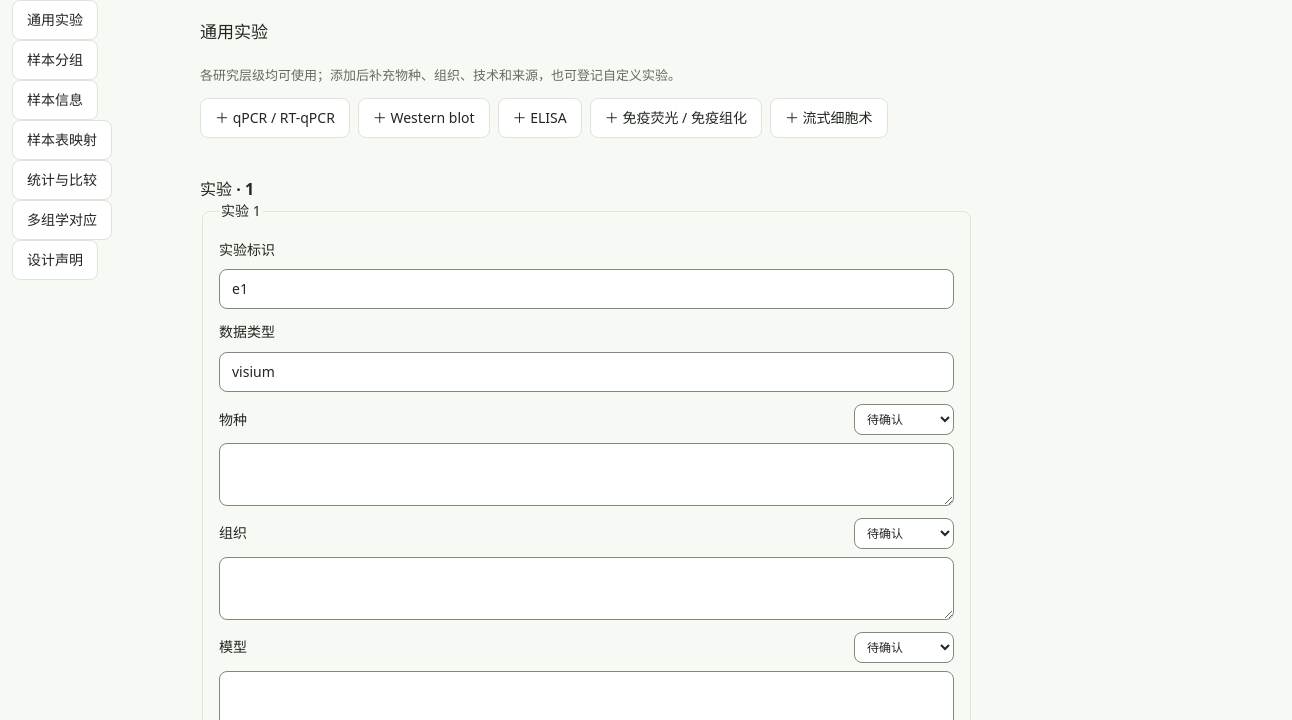
Test case: previews a persisted XLSX sheet before explicitly adding mapped samples
Later steps or results of the test are not shown.
Click the button "样本表映射" at (62, 140), box top-left (12, 120), bottom-right (112, 160)
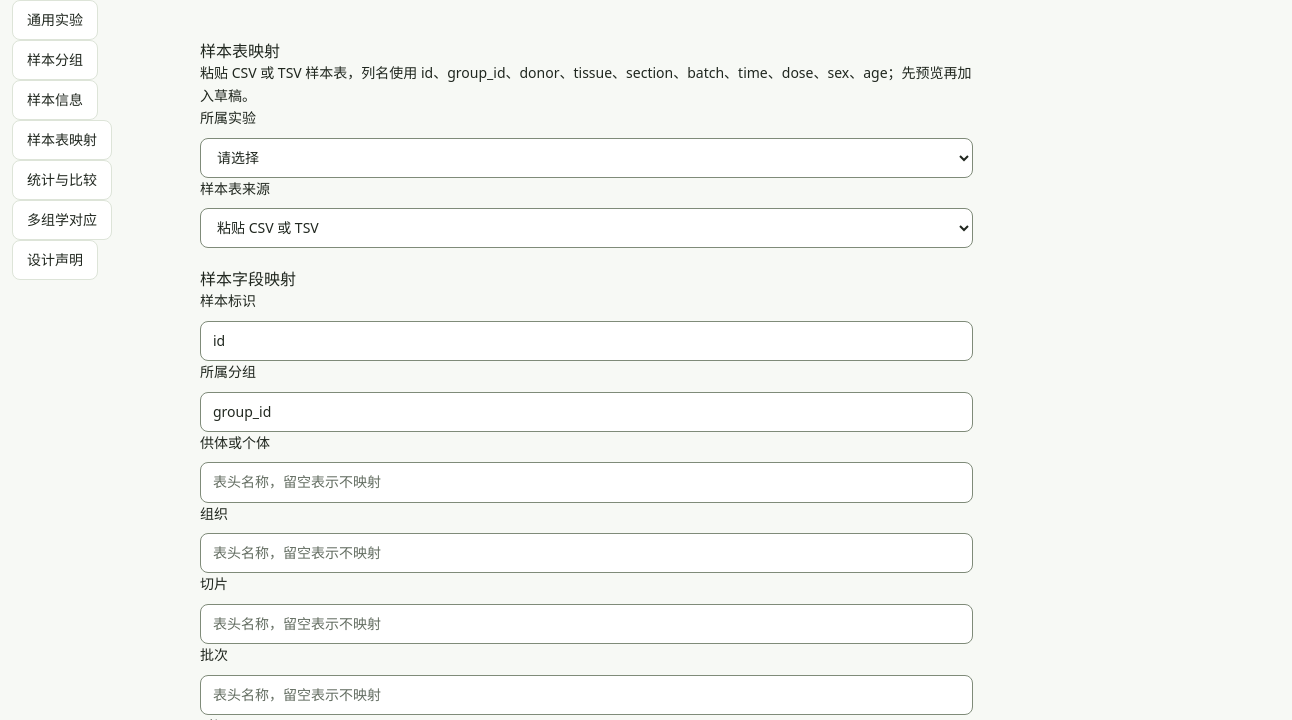
Select "e1" in the dropdown labelled "所属实验" at (586, 158), box top-left (200, 138), bottom-right (973, 178)
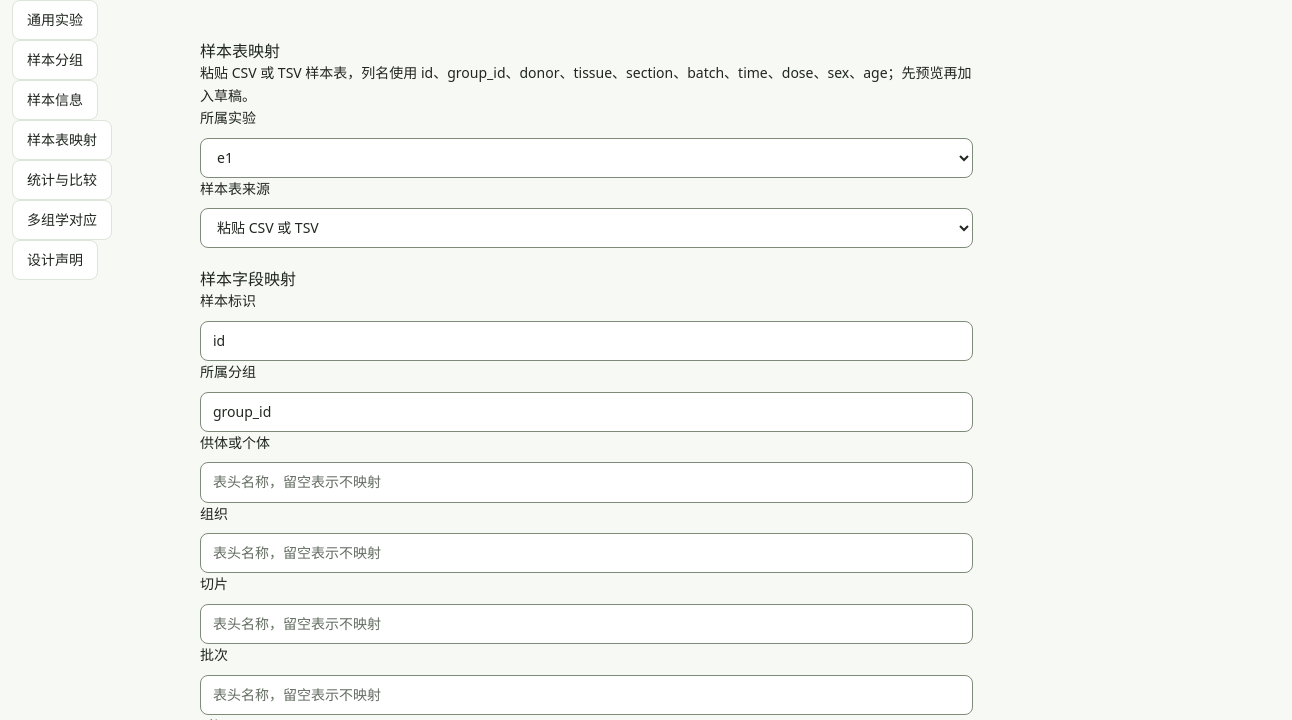
Select "samples.xlsx" in the dropdown labelled "样本表来源" at (586, 228), box top-left (200, 208), bottom-right (973, 248)
(page scrolled)
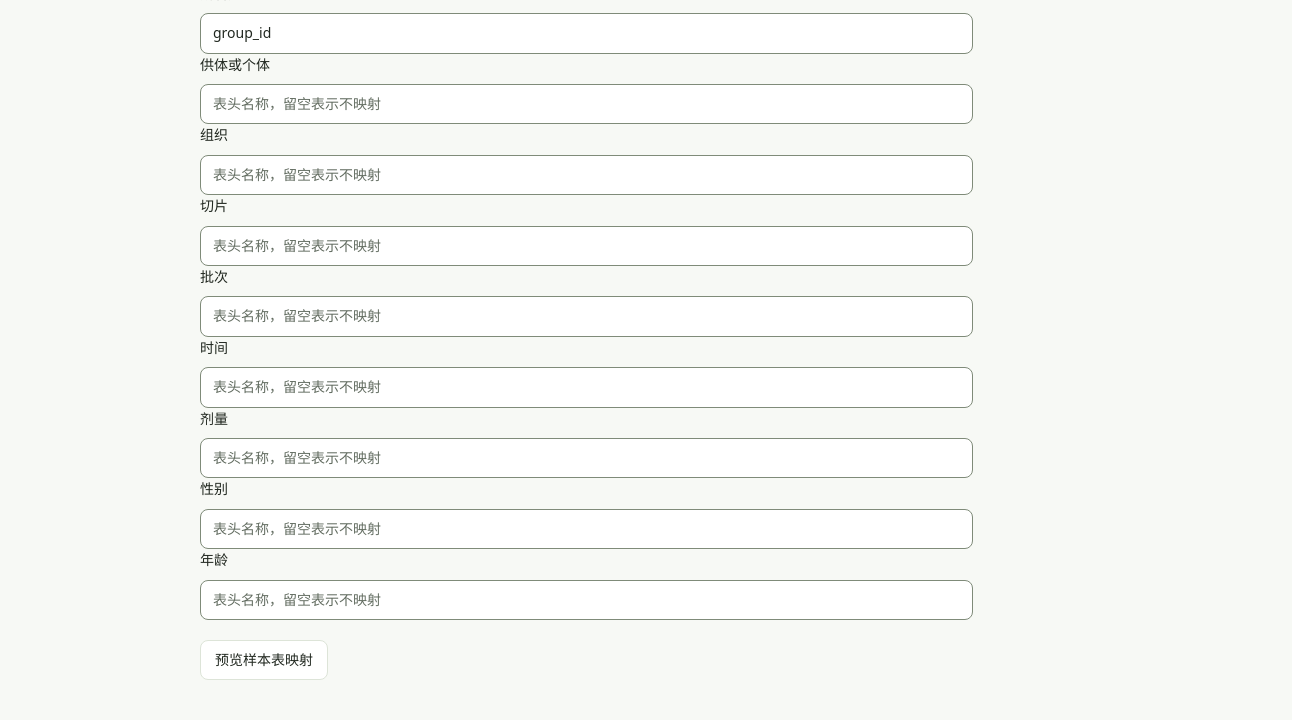
Click the button "预览样本表映射" at (264, 660), box top-left (200, 640), bottom-right (328, 680)
(page scrolled)
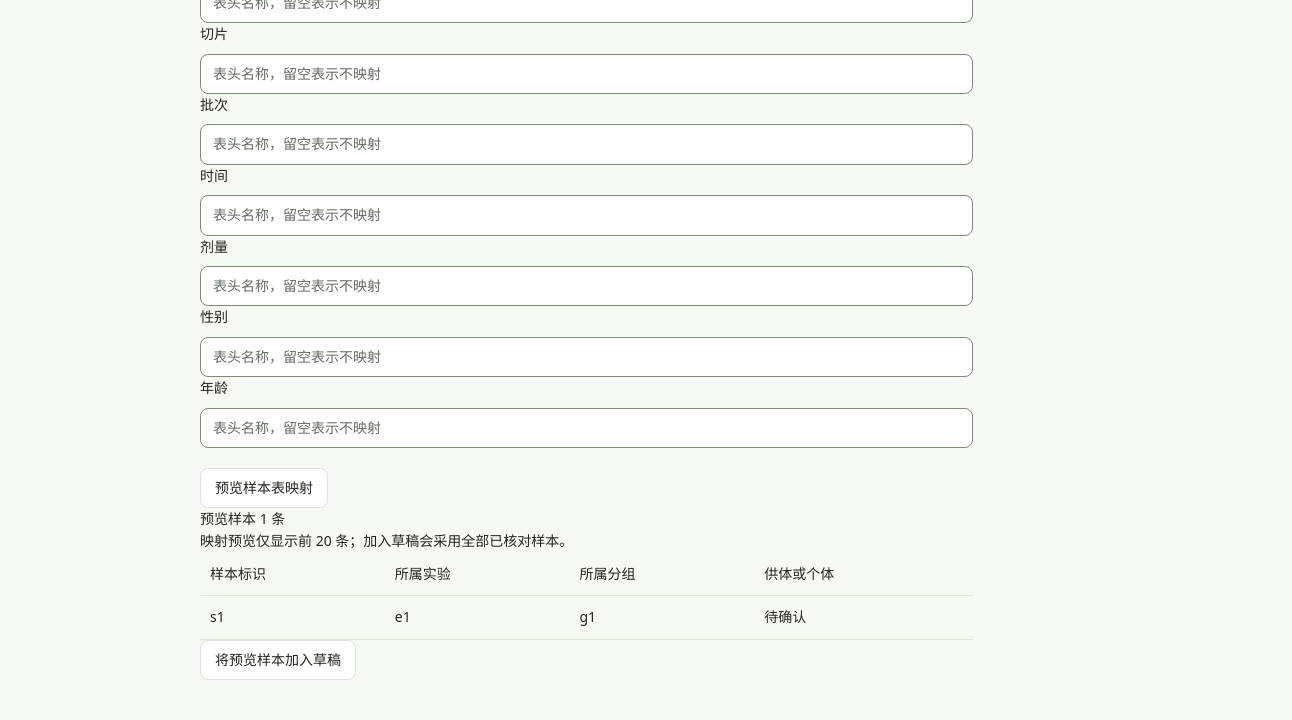
expect the text "预览样本 1 条" is shown: met, box top-left (200, 509), bottom-right (285, 528)
